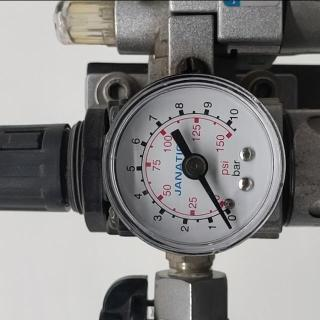gauge: (102, 71, 286, 260), (182, 153, 208, 179), (216, 210, 238, 233), (222, 124, 242, 142), (224, 221, 234, 231)
